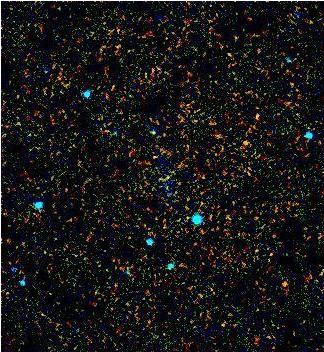star: (263, 270, 293, 300)
